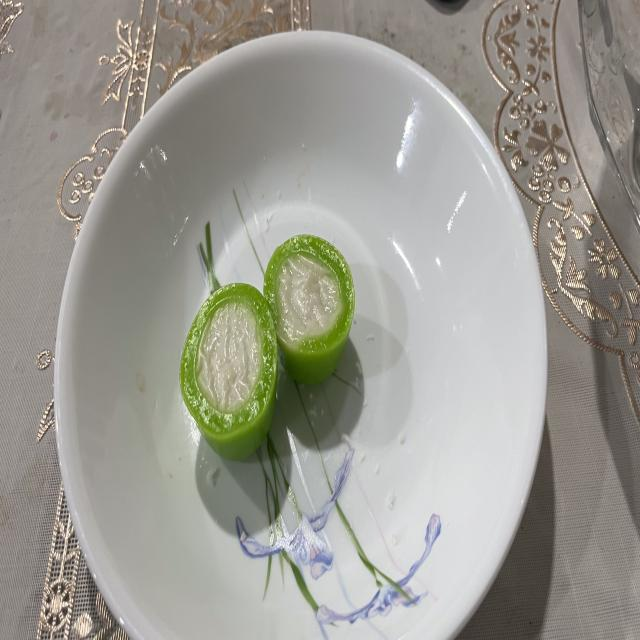nona-manis: (180, 282, 278, 460), (264, 236, 355, 384)
